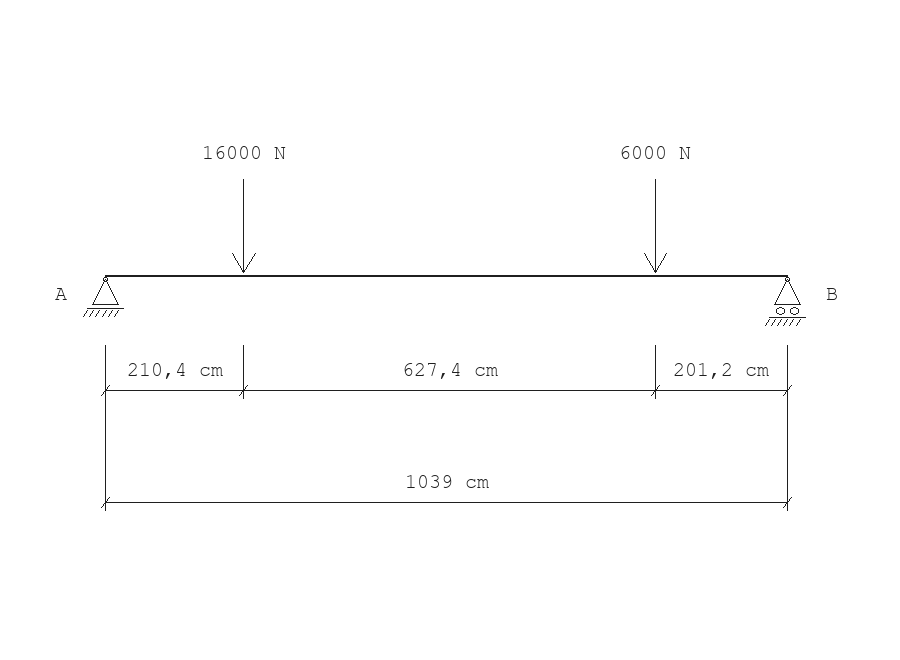pin_support: (83, 277, 124, 317)
point_load: (232, 179, 256, 273), (644, 179, 667, 273)
roller_support: (765, 277, 806, 326)
